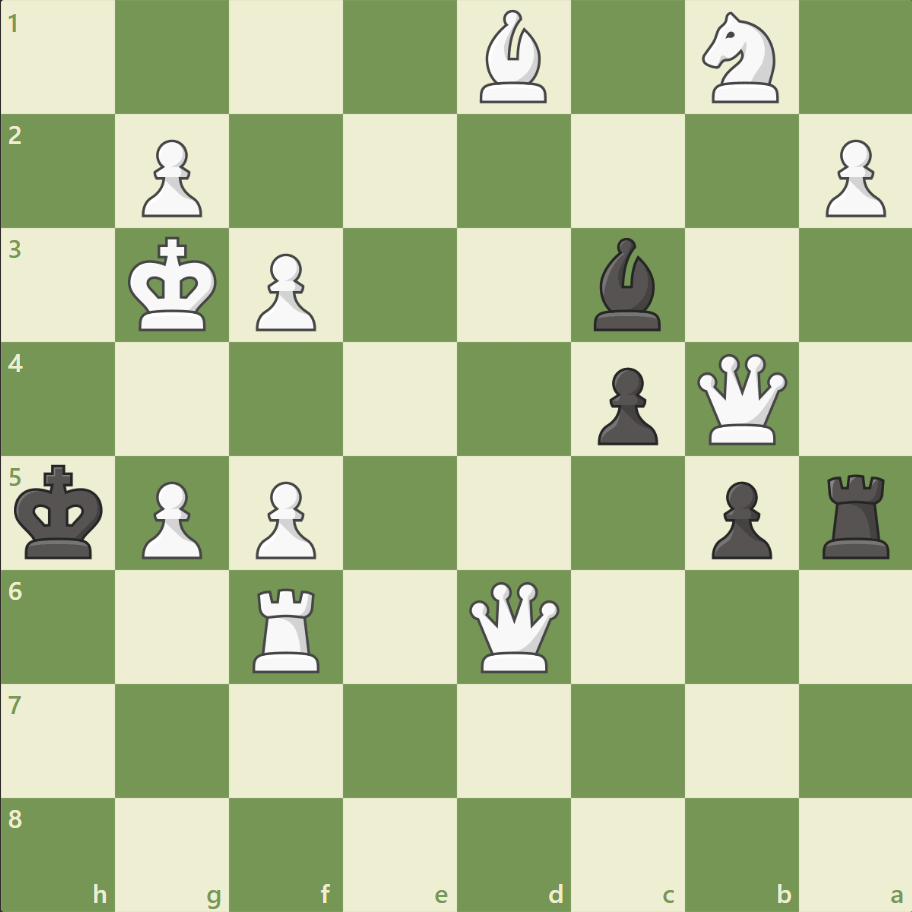B: (471, 6, 555, 109)
K: (124, 231, 224, 339)
N: (692, 7, 789, 110)
P: (247, 473, 322, 564), (133, 473, 208, 564), (247, 246, 322, 337), (133, 132, 208, 223), (815, 132, 889, 223)
Q: (464, 576, 563, 676), (691, 349, 790, 449)
R: (246, 579, 329, 676)
b: (585, 233, 669, 336)
k: (11, 458, 111, 566)
p: (701, 473, 776, 564), (588, 359, 662, 450)
r: (814, 466, 897, 563)
